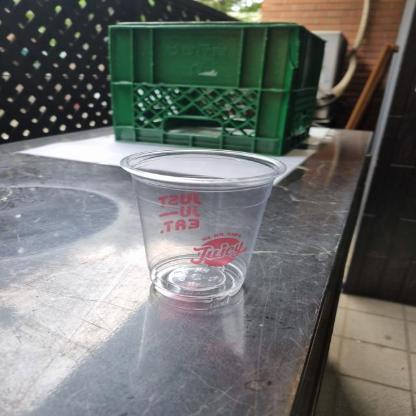Plastic Cup: (117, 149, 287, 303)
